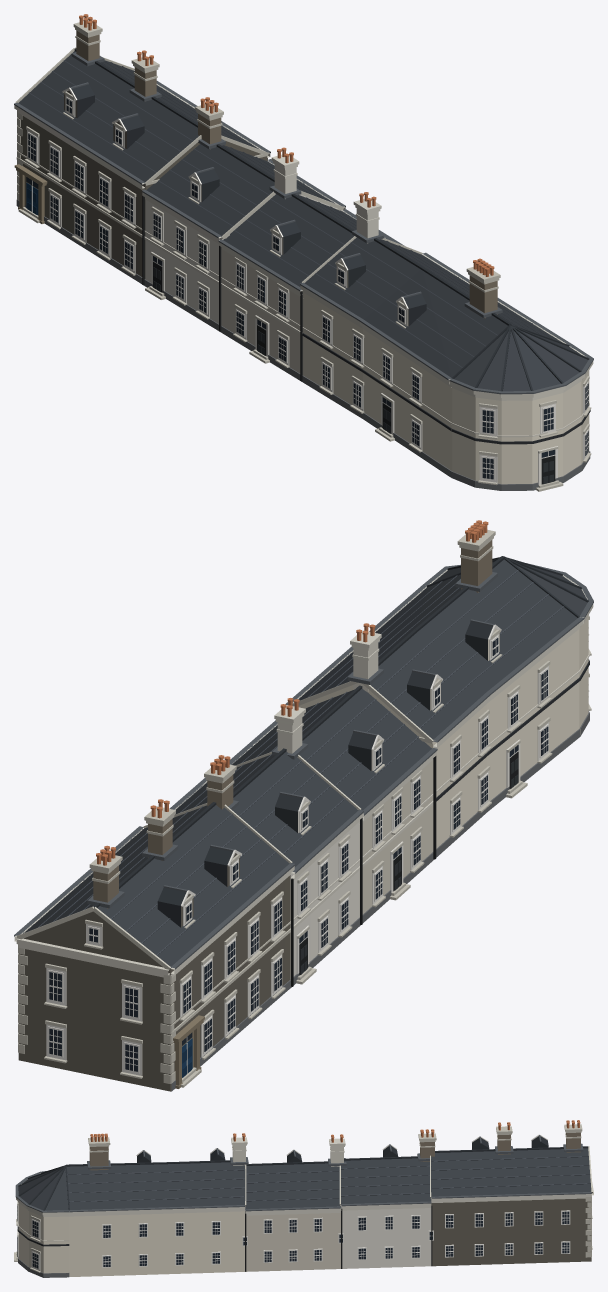
3 views of the same model, one above another, from view 1: azimuth 30°, elevation 25°; view 2: azimuth 150°, elevation 25°; view 3: azimuth 270°, elevation 25° (orthographic). The views are drawn at different scales.
Parts seen in each view (by area): view 1: slate, harl_cream, frame, dress_cream, rubble, string, glass, slate_dk, lead, slate_lt, harl_grey, harl (+9 smaller); view 2: slate, rubble, dress_cream, frame, harl_cream, lead, string, glass, slate_dk, slate_lt, harl_grey, harl (+7 smaller); view 3: slate, harl_cream, rubble, harl_grey, harl, frame, string, glass, slate_lt, slate_dk, lead, dress_cream (+5 smaller).
Part boxes in pixels (x1,y1,x2,y2): slate: (18,51,588,391); harl_cream: (303,261,589,484); frame: (27,87,588,484); dress_cream: (16,20,591,491); rubble: (17,90,267,278); string: (14,84,593,437); glass: (26,99,588,479); slate_dk: (71,48,589,391); lead: (14,52,593,394); slate_lt: (29,60,553,367); harl_grey: (222,228,303,375); harl: (145,175,342,325); slate: (24,559,587,968); rubble: (18,853,290,1091); dress_cream: (16,529,591,1087); frame: (46,624,589,1075); harl_cream: (298,615,588,851); lead: (14,563,593,969); string: (14,569,593,977); glass: (49,638,548,1071); slate_dk: (93,556,588,927); slate_lt: (37,570,563,955); harl_grey: (359,738,432,916); harl: (290,800,359,978); slate: (18,1148,591,1210); harl_cream: (18,1203,244,1276); rubble: (431,1198,591,1266); harl_grey: (245,1213,340,1271); harl: (341,1206,431,1268); frame: (17,1134,570,1271); string: (16,1137,593,1241); glass: (17,1205,569,1268); slate_lt: (67,1156,590,1202); slate_dk: (18,1136,588,1210); lead: (15,1135,591,1212); dress_cream: (14,1124,592,1272).
Bounding box in the file's own units: 14.52 × 13.92 × 60.42.
